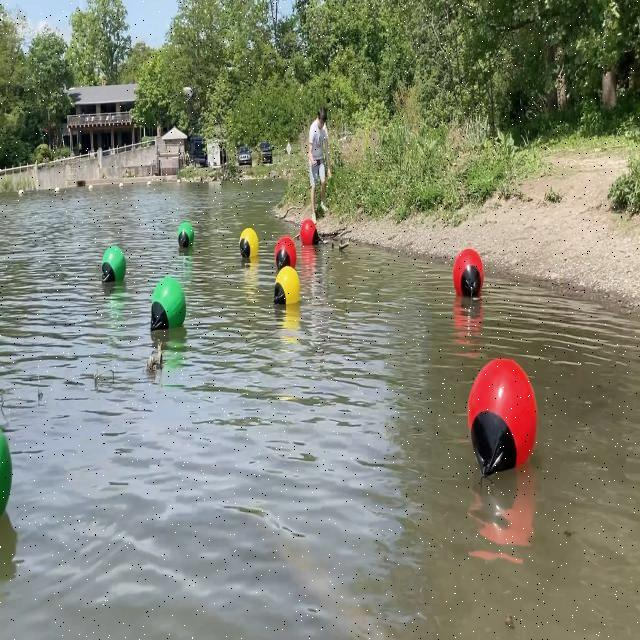buoy: (466, 354, 540, 477), (150, 274, 187, 331), (0, 412, 16, 528), (452, 245, 484, 302), (273, 264, 298, 310), (100, 243, 128, 284), (272, 233, 294, 271), (239, 226, 260, 260), (301, 216, 321, 246), (176, 221, 194, 249)
